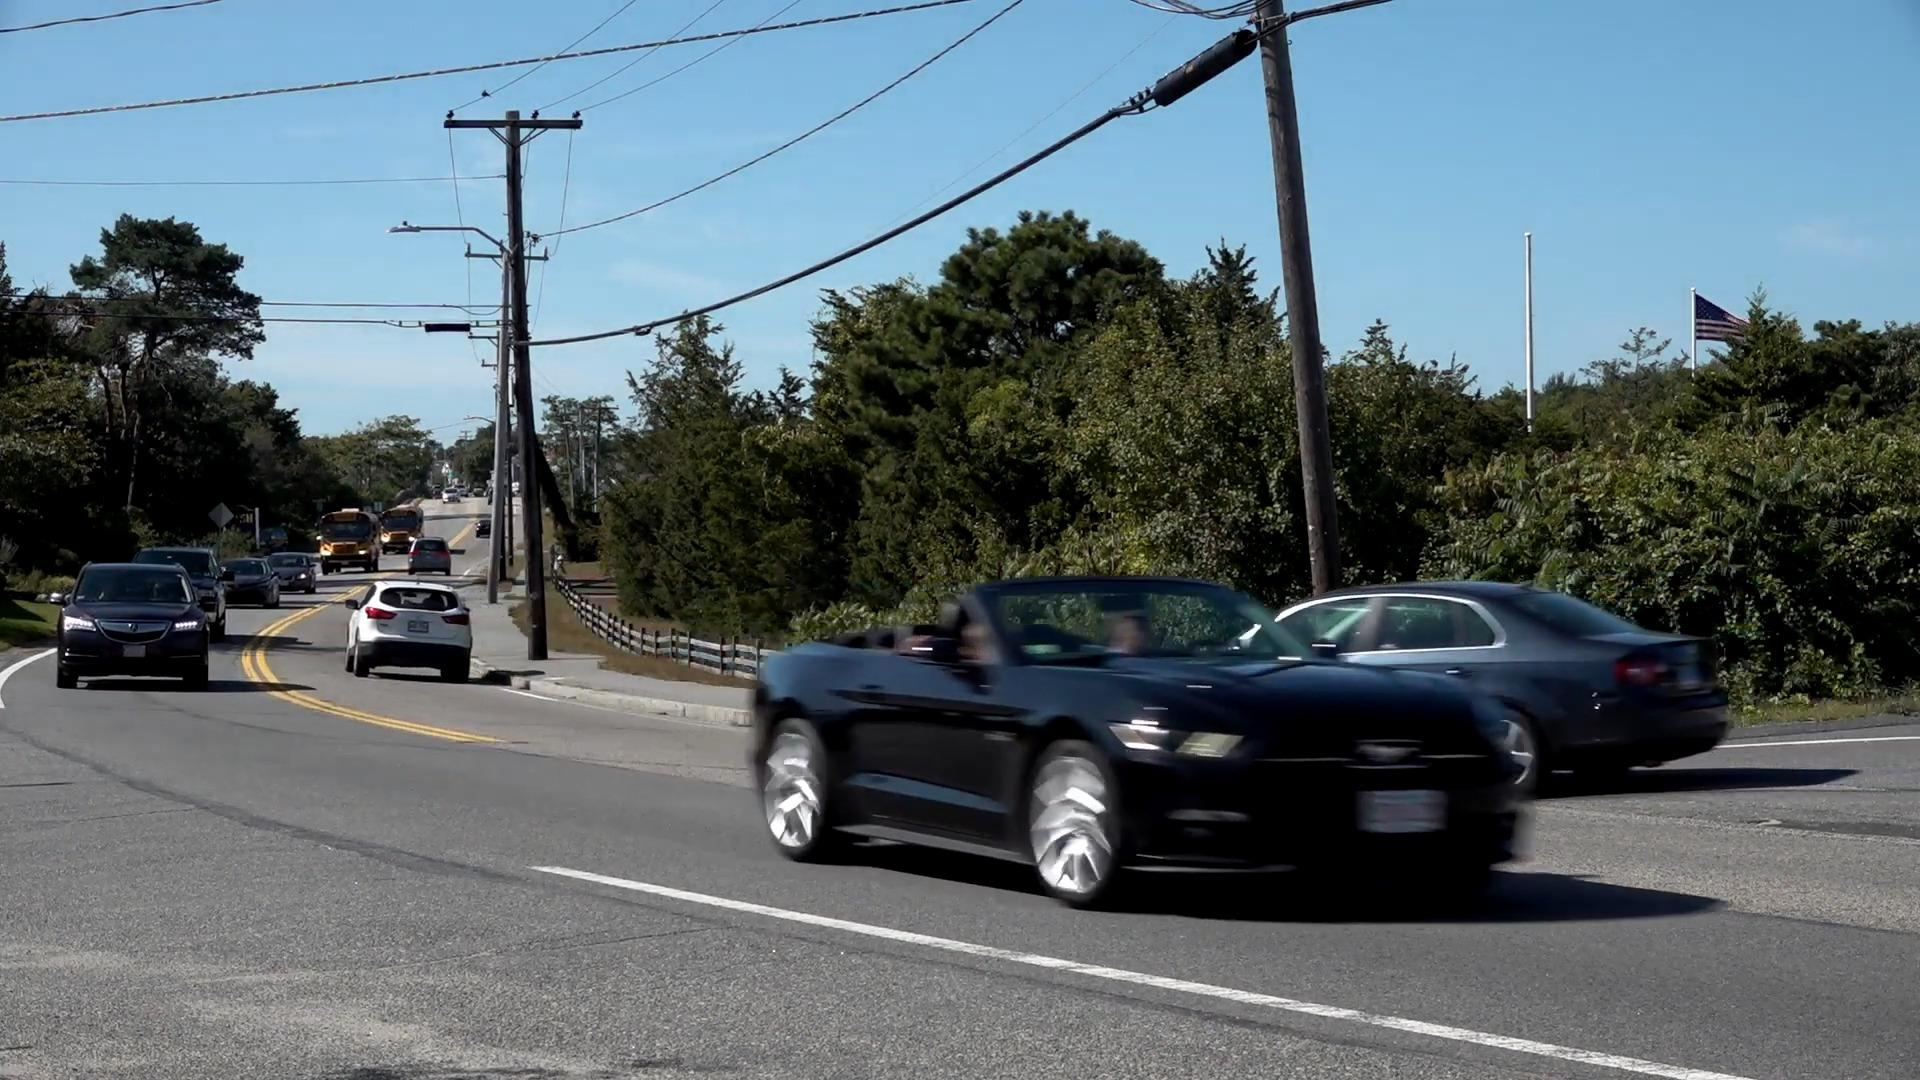sedans: (745, 568, 1518, 907), (1230, 582, 1713, 775)
suv: (57, 562, 210, 691), (348, 580, 469, 679)
